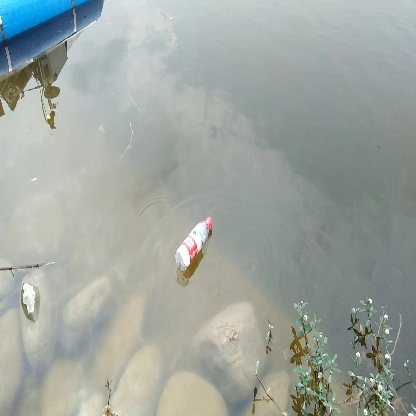bottle: (174, 215, 218, 276)
